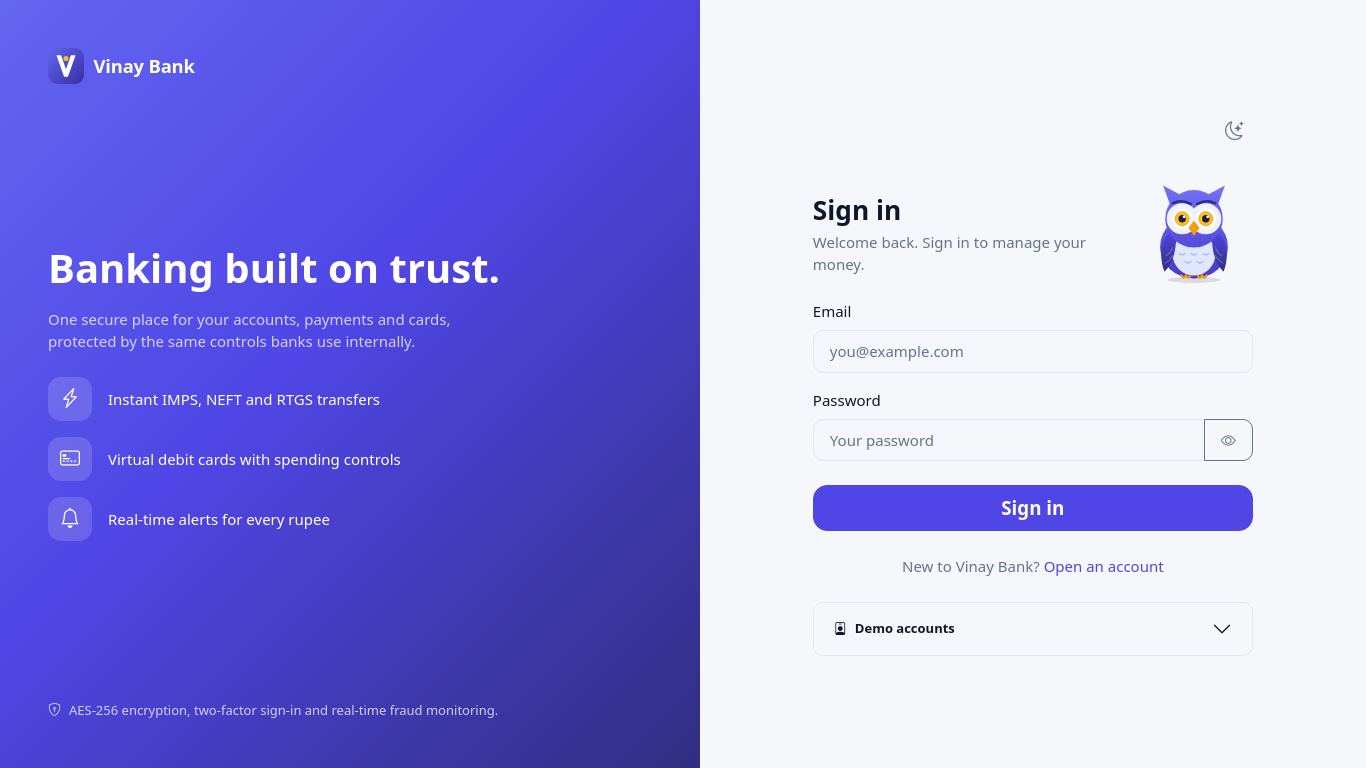
LoginPage › has an owl that watches the email field and covers its eyes for the password
Type "priya@example.com" into the field labelled "Email".
click(1033, 352); type("priya@example.com")  # box [813,330,1253,373]
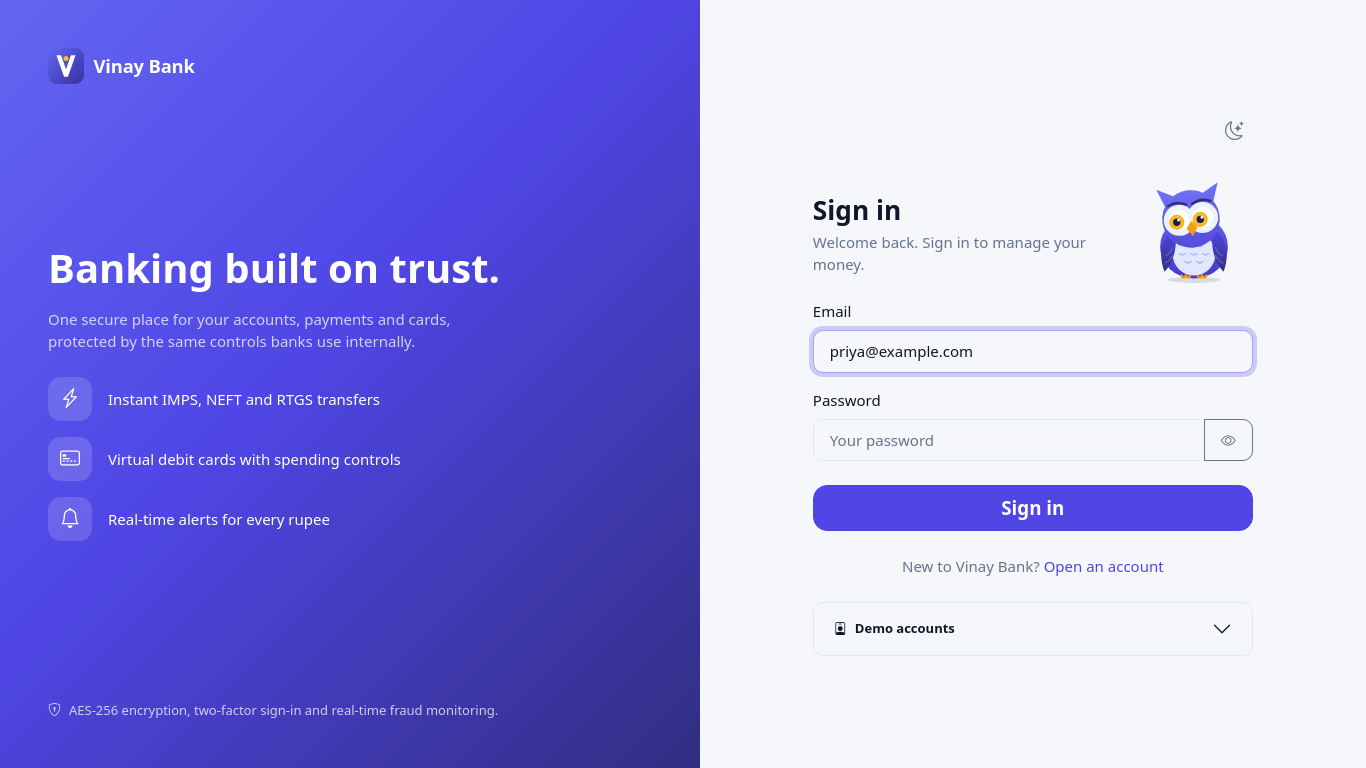
Expected: the icon with class "login-owl" has attribute data-owl-state="watching", [1135,173,1253,284]
Click the password field labelled "Password".
click(1009, 440)  # box [813,419,1205,461]
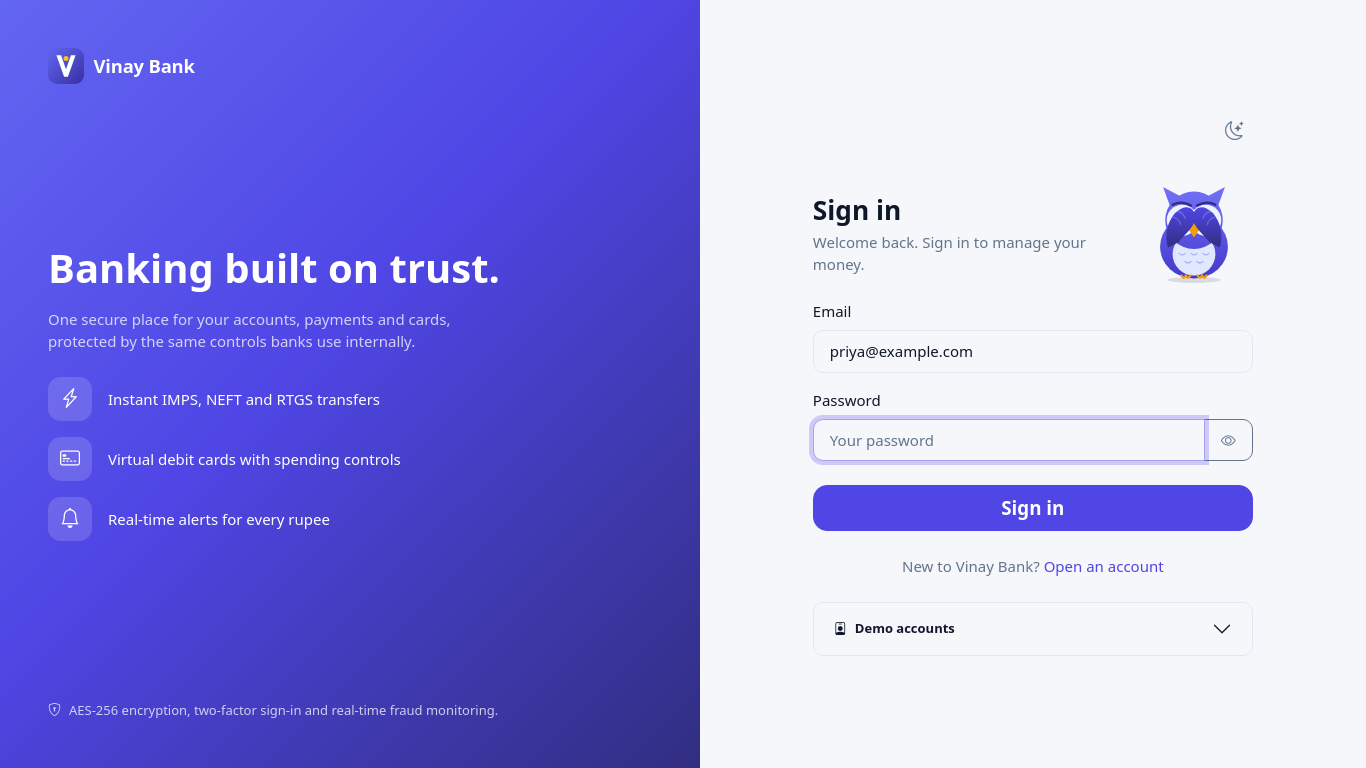
Expected: the icon with class "login-owl" has attribute data-owl-state="covering", [1135,173,1253,284]
Note: Revealing the password keeps the eyes covered and turns the head away.
Click the button named "Show password".
click(1228, 440)  # box [1204,419,1253,461]
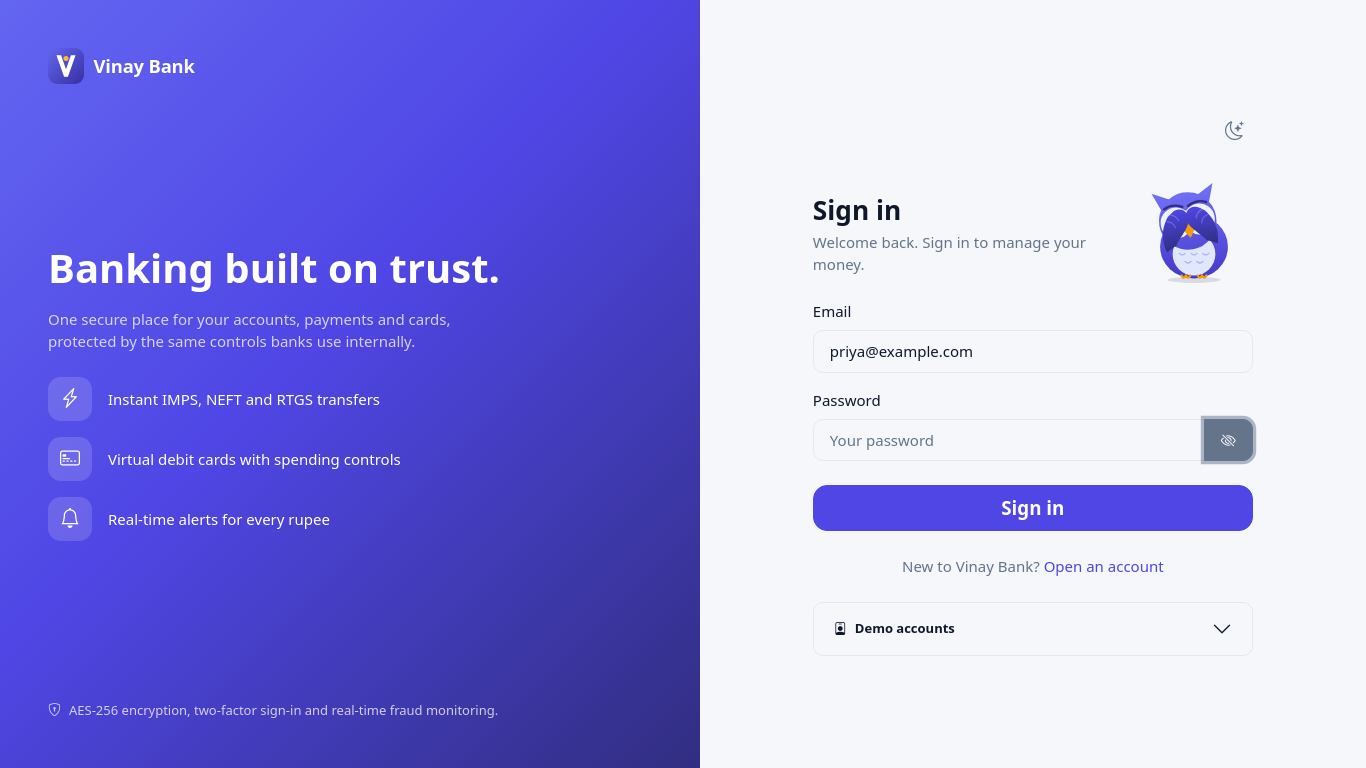
Expected: the icon with class "login-owl" has attribute data-owl-state="covering", [1135,173,1253,284]
Expected: the icon with class "login-owl" has attribute data-owl-shy="true", [1135,173,1253,284]
Click the element that starts with "Vinay".
click(683, 384)  # box [0,0,1365,767]
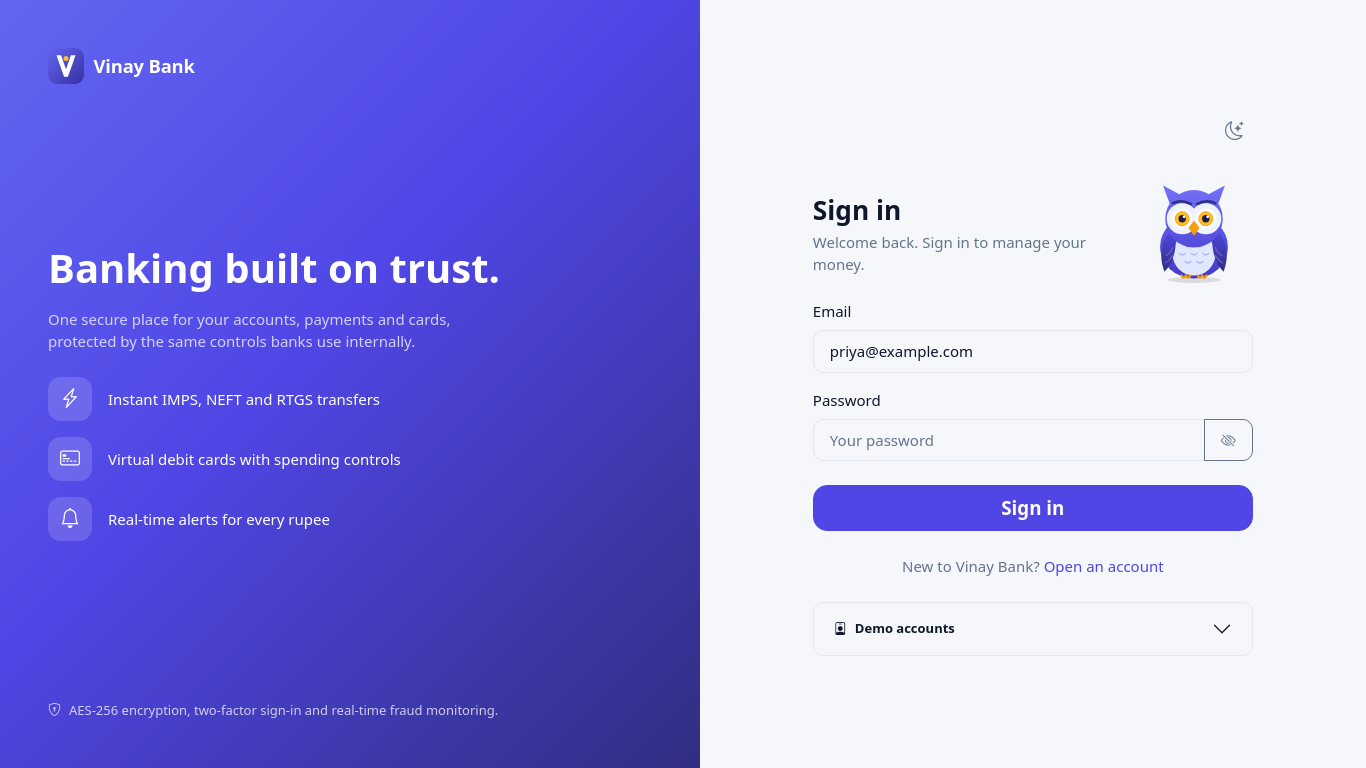
Expected: the icon with class "login-owl" has attribute data-owl-state="idle", [1135,173,1253,284]
